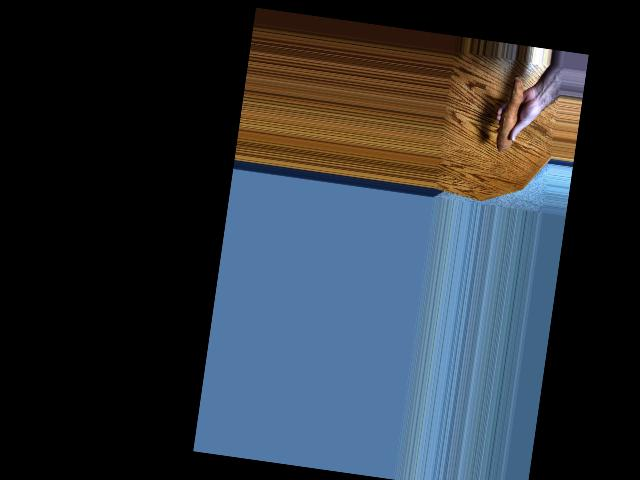sweet_potato: (492, 71, 527, 155)
